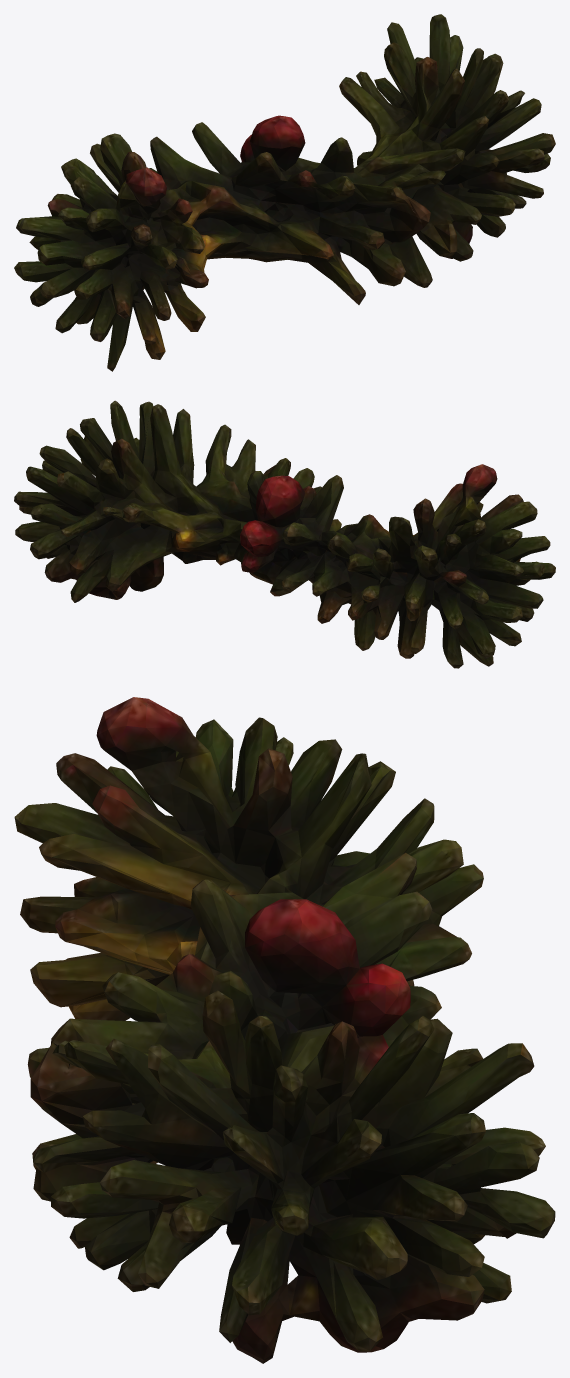
The picture shows the model from 3 angles, top to bottom: view 1: azimuth 30°, elevation 25°; view 2: azimuth 150°, elevation 25°; view 3: azimuth 270°, elevation 25°; orthographic projection. The views are drawn at different scales.
Visible parts, largest first — view 1: world; view 2: world; view 3: world.
Part boxes in pixels (<box>): world: <box>14,14,555,371</box>; world: <box>14,400,555,668</box>; world: <box>14,697,555,1363</box>.
Bounding box in the file's own units: 0.9994 × 0.3899 × 0.4906.
1 material, 1 textured.
